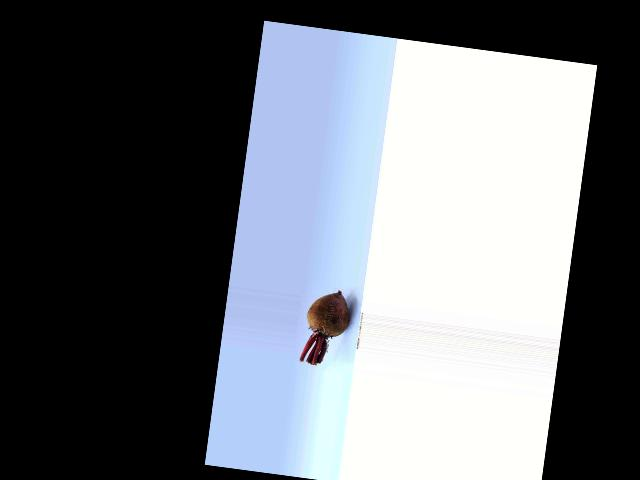beet: (300, 287, 352, 367)
